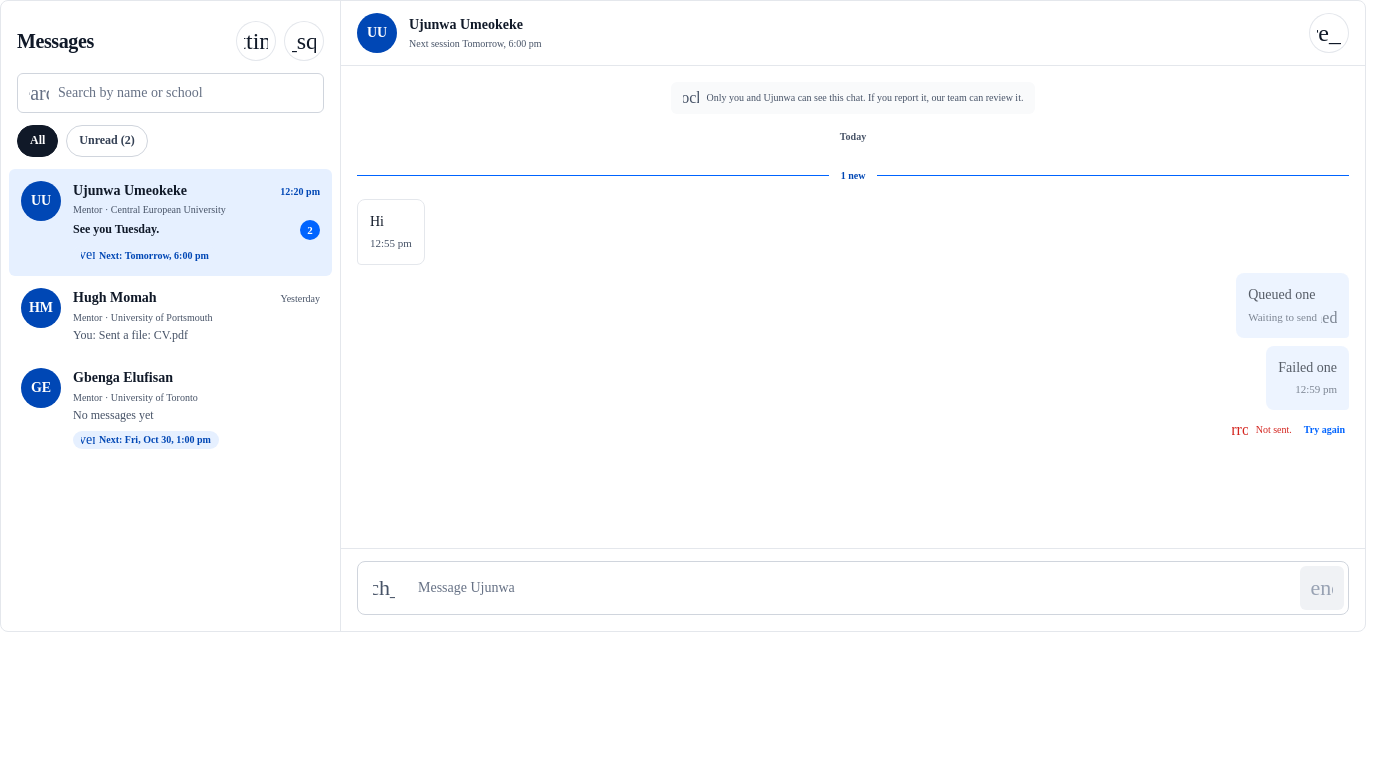
Test: the thread › my unsent messages: Waiting to send offline; Not sent with Try again, and a toast once it goes
expect the text "Waiting to send" is shown: met, box [1248, 311, 1317, 323]
expect the message shows "Not sent.": met, box [1256, 424, 1292, 434]
Click the button "Try again" at (1324, 430), box [1300, 414, 1349, 446]
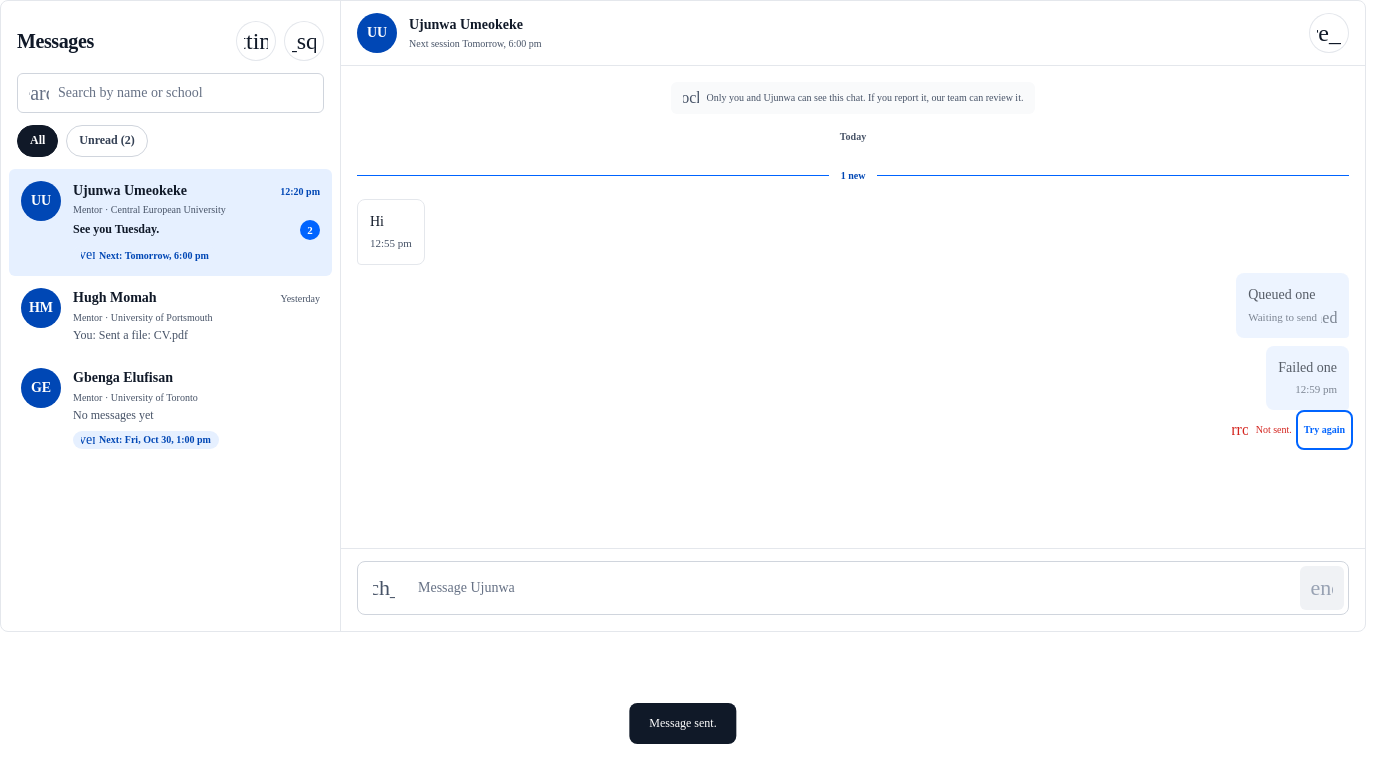
expect the text "Message sent." is shown: met, box [629, 703, 737, 744]
